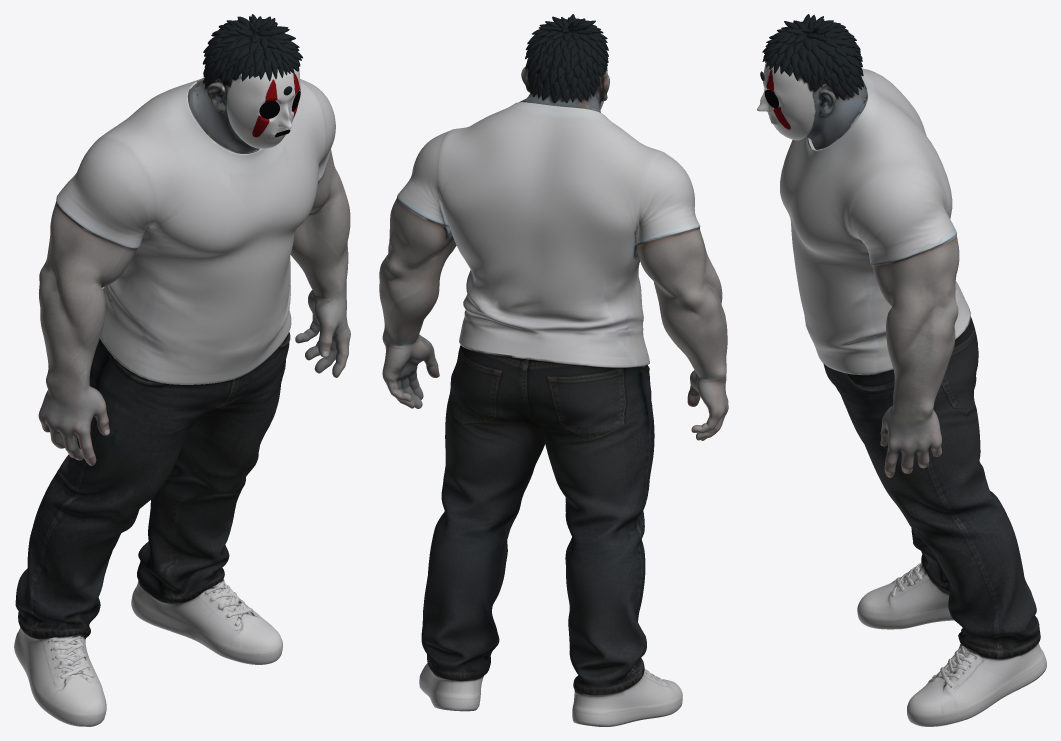
The model's file is sobaya_front_matched.glb.
The picture shows the model from 3 angles, left to right: view 1: azimuth 30°, elevation 25°; view 2: azimuth 150°, elevation 25°; view 3: azimuth 270°, elevation 25°; orthographic projection. The views are drawn at different scales.
Visible parts, largest first — view 1: tripo_node_4861cc5b; view 2: tripo_node_4861cc5b; view 3: tripo_node_4861cc5b.
Part boxes in pixels (x1,y1,x2,y2): tripo_node_4861cc5b: [14, 14, 350, 726]; tripo_node_4861cc5b: [379, 14, 728, 726]; tripo_node_4861cc5b: [762, 14, 1046, 726].
Size of the model in its own units: 0.9112 by 1.79 by 0.7041.
6 materials, 2 textured.
